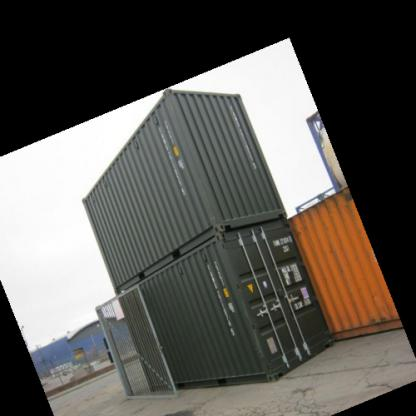Damage: (239, 299, 269, 367), (299, 211, 315, 251), (350, 303, 385, 321), (89, 196, 105, 210)
